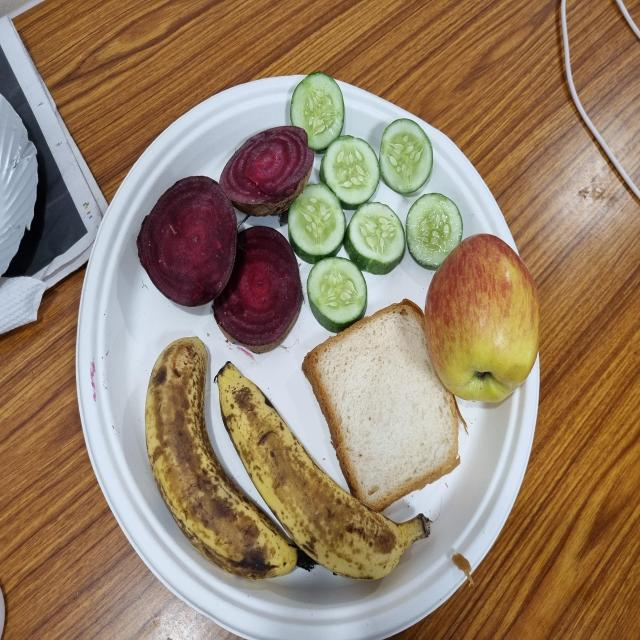apple: (421, 235, 541, 409)
banana: (209, 363, 423, 581), (144, 339, 315, 582)
cucumber: (288, 180, 352, 263), (341, 201, 407, 278), (306, 256, 369, 335), (375, 118, 434, 202), (404, 192, 463, 272), (318, 136, 381, 210), (291, 73, 345, 157)
